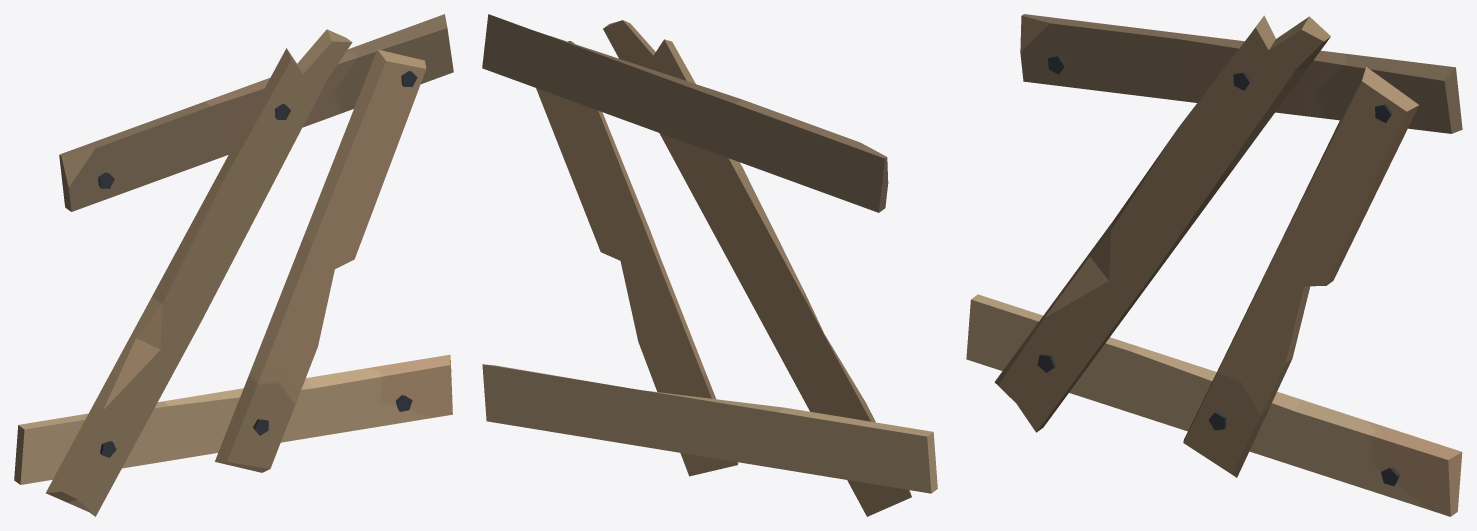
File: SM_Window_Baricade_A.fbx
3 views of the same model, side by side, from view 1: azimuth 30°, elevation 25°; view 2: azimuth 150°, elevation 25°; view 3: azimuth 330°, elevation 25° (orthographic). The views are drawn at different scales.
Visible parts, largest first — view 1: SM_Window_Baricade_A; view 2: SM_Window_Baricade_A; view 3: SM_Window_Baricade_A.
Boxes of the visible parts, bbox=[...] form: SM_Window_Baricade_A: bbox=[14, 14, 453, 516]; SM_Window_Baricade_A: bbox=[482, 14, 937, 516]; SM_Window_Baricade_A: bbox=[966, 14, 1462, 516].
Size of the model in its own units: 163 by 153 by 9.8.
